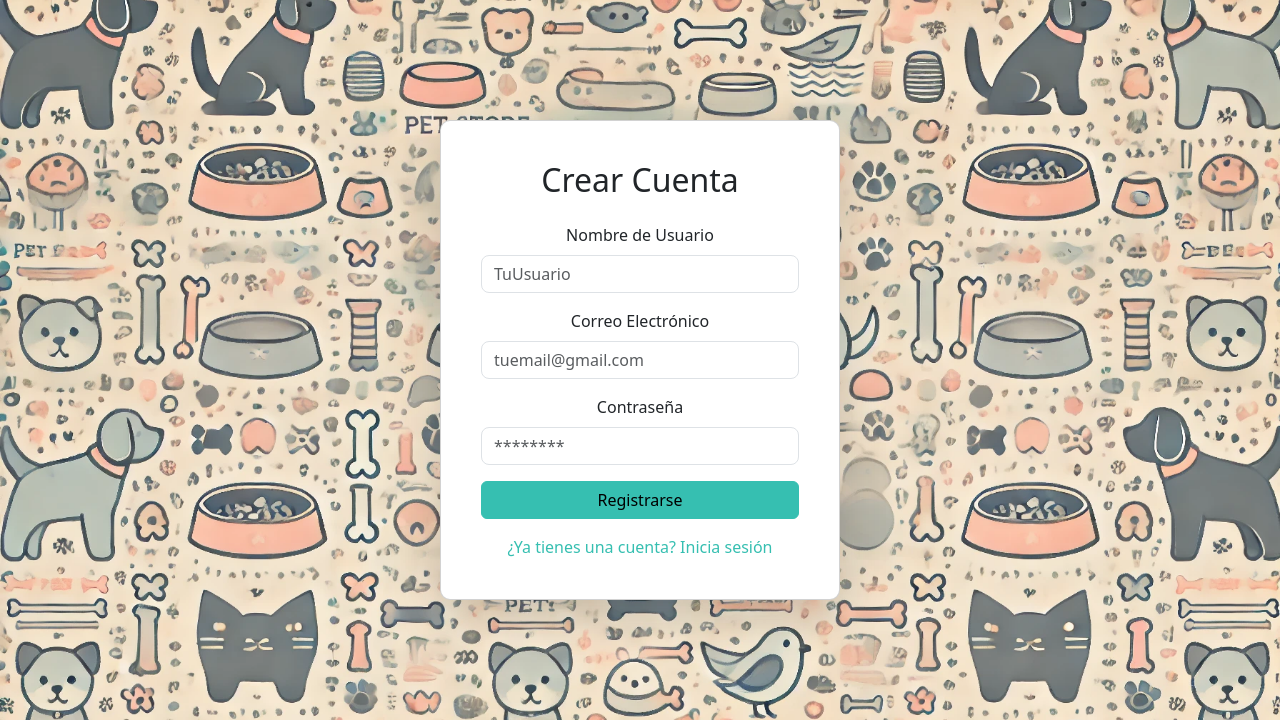
Test: RegisterView › muestra un mensaje de error si el registro falla
Step 1. Type "usuarioTest" into the field labelled "Nombre de Usuario" → (640, 274), box [481, 255, 799, 293]
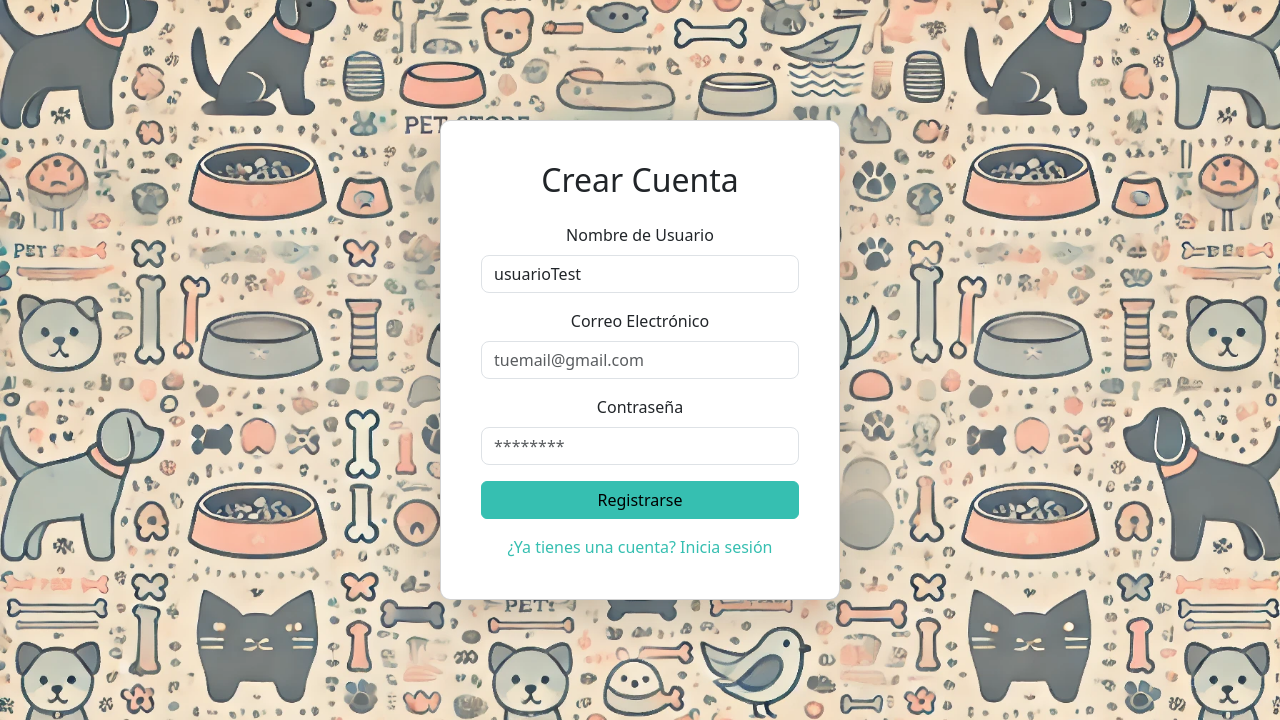
Step 2. Type "test@email.com" into the field labelled "Correo Electrónico" → (640, 360), box [481, 341, 799, 379]
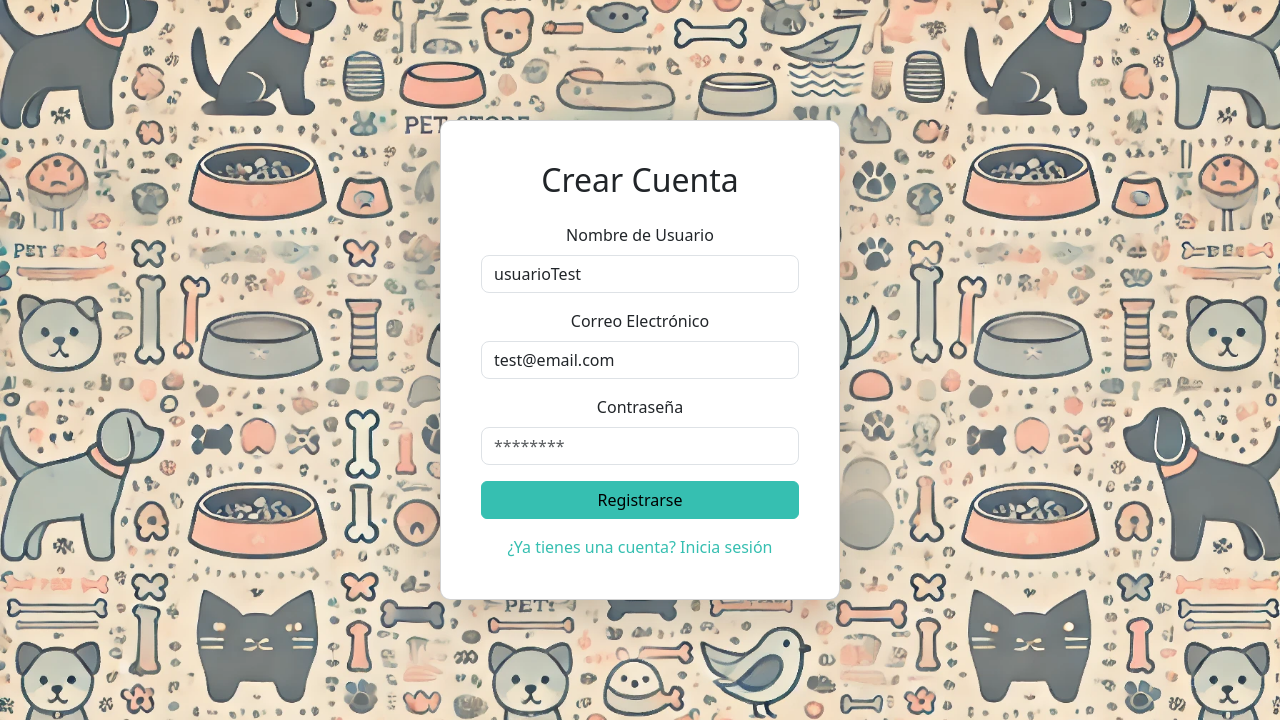
Step 3. Type "password123" into the password field labelled "Contraseña" → (640, 446), box [481, 427, 799, 465]
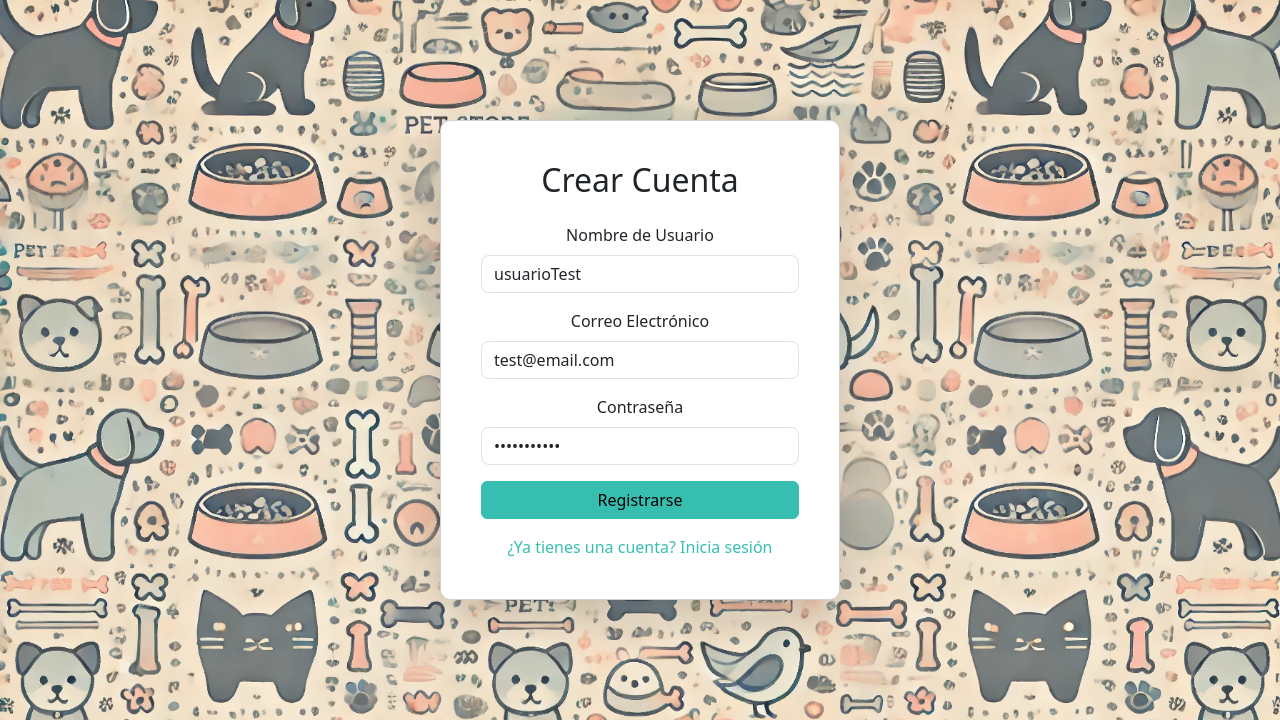
Step 4. Submit the form, box [481, 223, 799, 519]
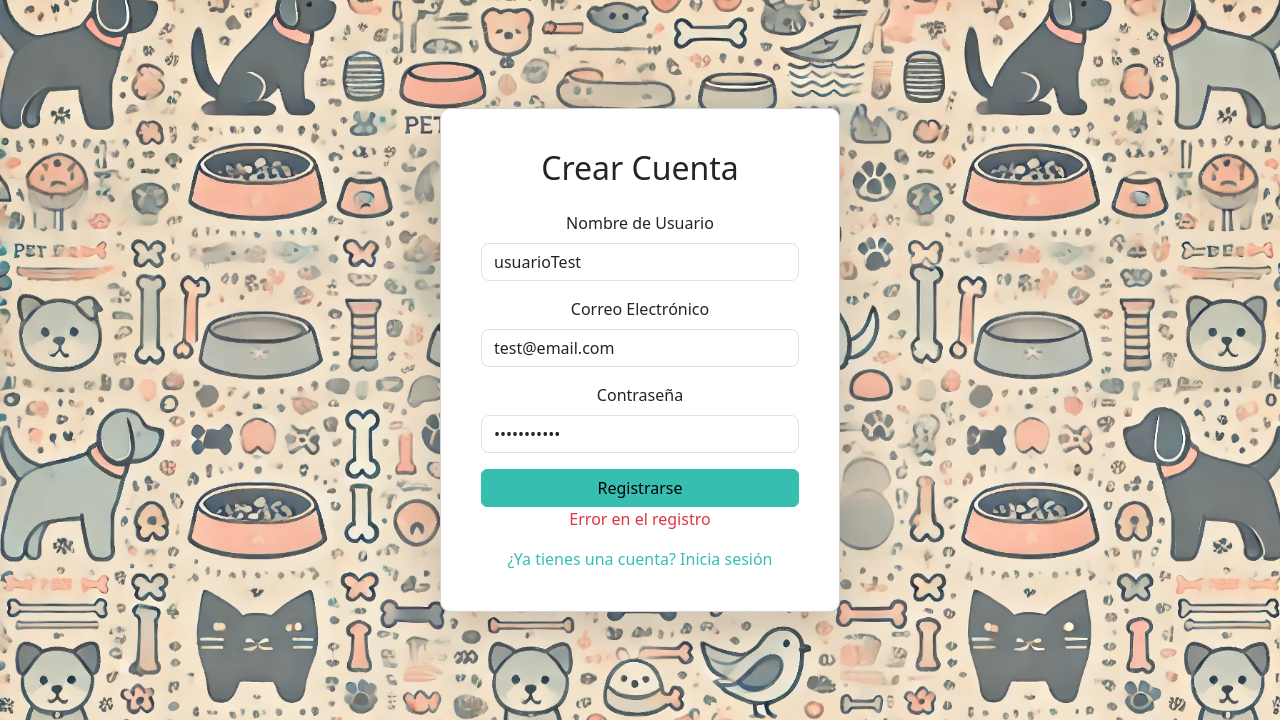
Check: the text "Error en el registro" is shown, box [569, 508, 711, 530]
